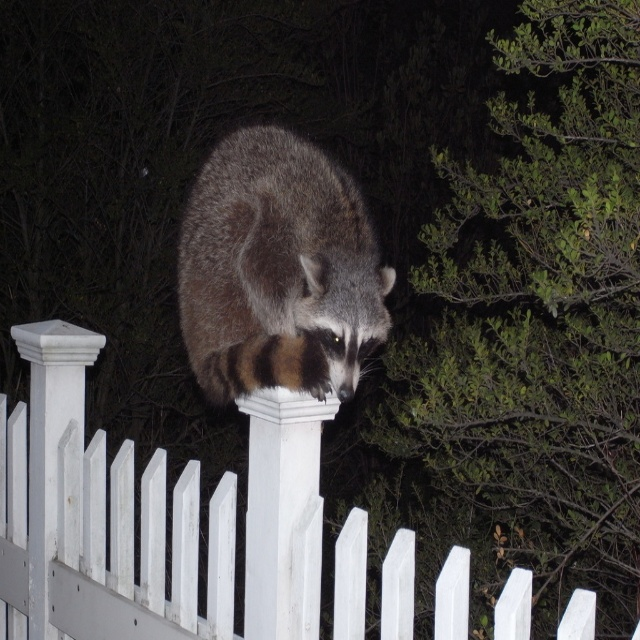Raccoon: (178, 124, 398, 405)
